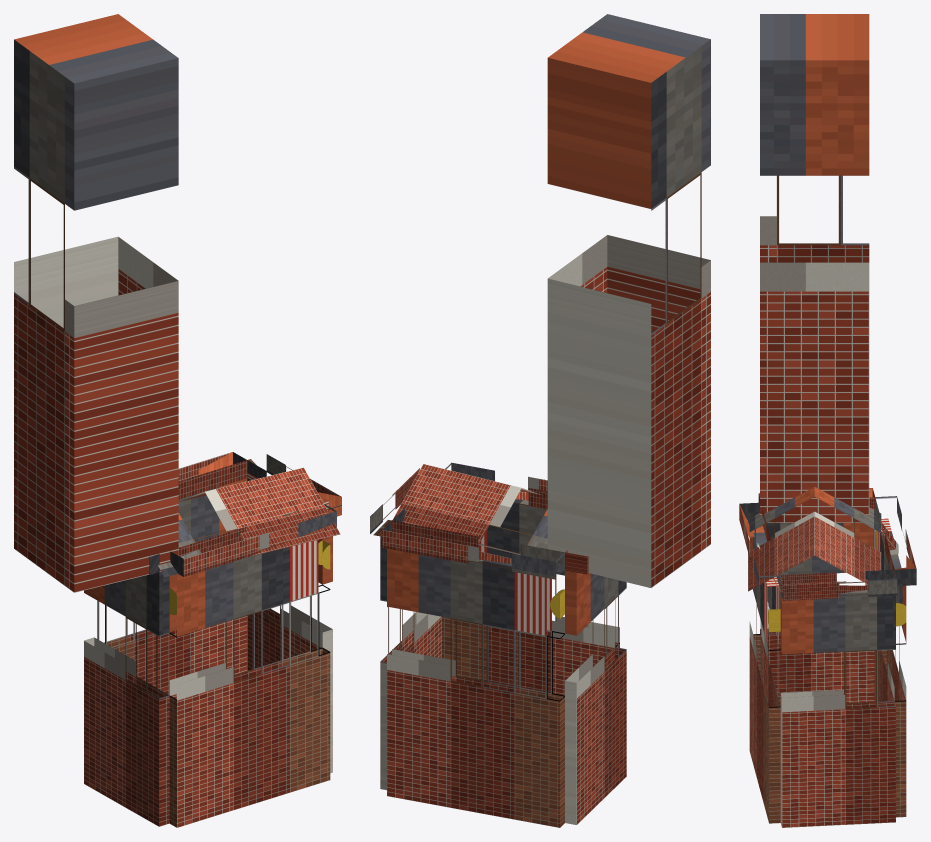
3 views of the same model, side by side, from view 1: azimuth 30°, elevation 25°; view 2: azimuth 150°, elevation 25°; view 3: azimuth 270°, elevation 25° (orthographic). The views are drawn at different scales.
Visible parts, largest first — view 1: 785658536__chimney_0_xb, 785658536__wall_3_xb, 785658536__wall_0_xb, 785658536__wall_1_xb, 785658536_roof_-1_xb, 785658536__wall_2_xb, 785658536__cornice_3, 785658536__cornice_1, 785658536__cornice_2; view 2: 785658536__chimney_0_xb, 785658536__wall_1_xb, 785658536__wall_0_xb, 785658536__wall_3_xb, 785658536_roof_1_xb, 785658536__cornice_1, 785658536__wall_2_xb, 785658536__cornice_3, 785658536__cornice_2; view 3: 785658536__chimney_0_xb, 785658536__wall_2_xb, 785658536__wall_3_xb, 785658536__wall_0_xb, 785658536__wall_1_xb, 785658536_roof_-1_xb, 785658536_roof_1_xb, 785658536__cornice_2, 785658536__cornice_1, 785658536__cornice_3.
Part boxes in pixels (x1,y1,x2,y2): 785658536__chimney_0_xb: [14, 14, 178, 592]; 785658536__wall_3_xb: [169, 540, 330, 827]; 785658536__wall_0_xb: [84, 572, 169, 826]; 785658536__wall_1_xb: [97, 478, 247, 694]; 785658536_roof_-1_xb: [158, 467, 340, 577]; 785658536__wall_2_xb: [247, 478, 332, 773]; 785658536__cornice_3: [170, 504, 336, 576]; 785658536__cornice_1: [178, 452, 247, 499]; 785658536__cornice_2: [247, 454, 341, 516]; 785658536__chimney_0_xb: [547, 14, 710, 587]; 785658536__wall_1_xb: [387, 548, 564, 827]; 785658536__wall_0_xb: [565, 570, 626, 824]; 785658536__wall_3_xb: [442, 499, 619, 695]; 785658536_roof_1_xb: [393, 464, 564, 572]; 785658536__cornice_1: [382, 520, 564, 579]; 785658536__wall_2_xb: [380, 536, 441, 790]; 785658536__cornice_3: [445, 462, 547, 509]; 785658536__cornice_2: [370, 468, 419, 536]; 785658536__chimney_0_xb: [760, 14, 869, 522]; 785658536__wall_2_xb: [780, 590, 895, 827]; 785658536__wall_3_xb: [749, 525, 780, 823]; 785658536__wall_0_xb: [760, 523, 875, 705]; 785658536__wall_1_xb: [875, 518, 906, 817]; 785658536_roof_-1_xb: [748, 487, 814, 591]; 785658536_roof_1_xb: [814, 487, 881, 583]; 785658536__cornice_2: [780, 569, 897, 600]; 785658536__cornice_1: [875, 496, 916, 585]; 785658536__cornice_3: [739, 502, 780, 591].
Size of the model in its own units: 0.4033 by 1.05 by 0.2428.
1 material, 1 textured.
